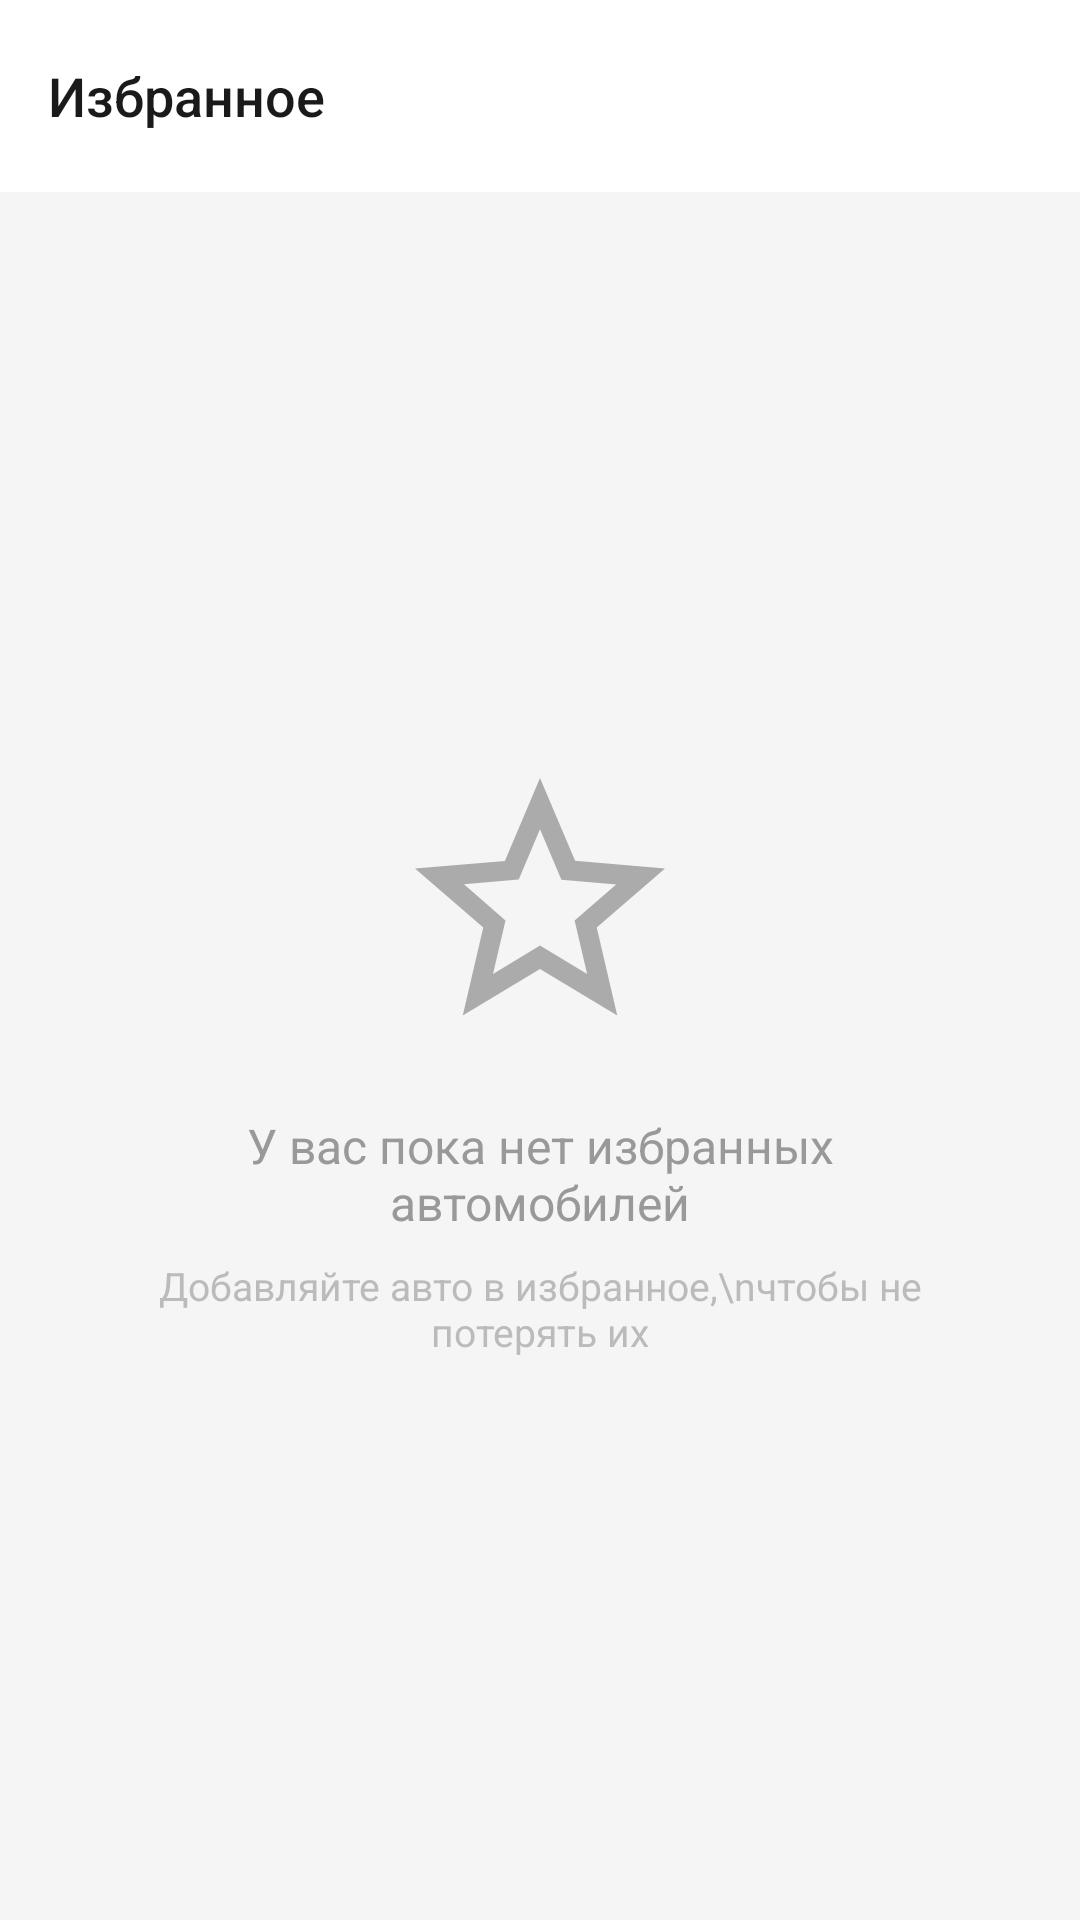

Icons on this 1080×1920 Android screen, each with the point to tap as (x,y):
favorite: (540,897)
